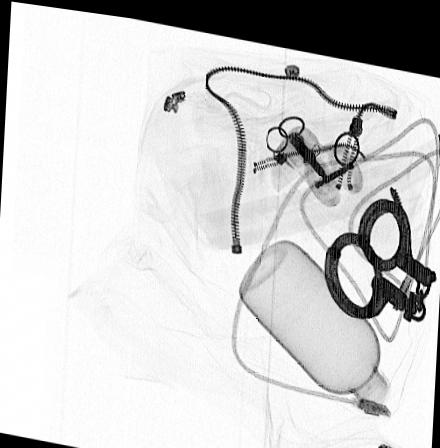HandCuffs: (323, 173, 440, 312)
